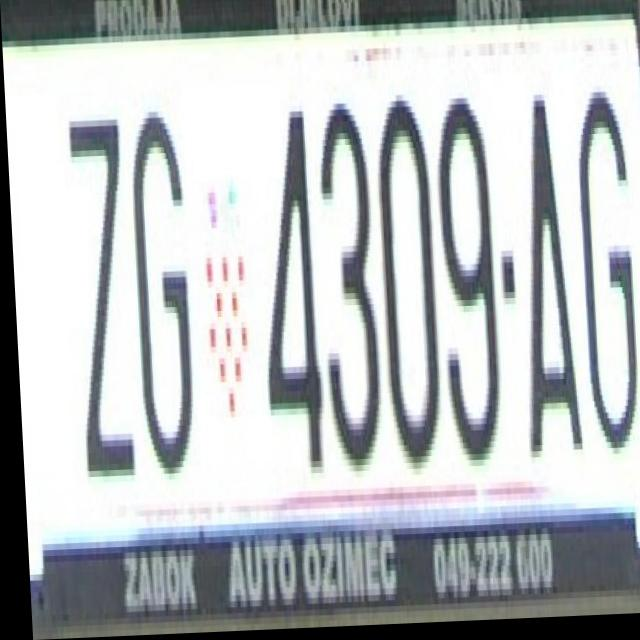0: (371, 92, 438, 479)
3: (311, 100, 377, 470)
4: (252, 96, 322, 483)
9: (430, 96, 495, 466)
A: (510, 117, 572, 462)
G: (566, 91, 638, 467), (122, 106, 194, 476)
Z: (59, 108, 136, 485)
